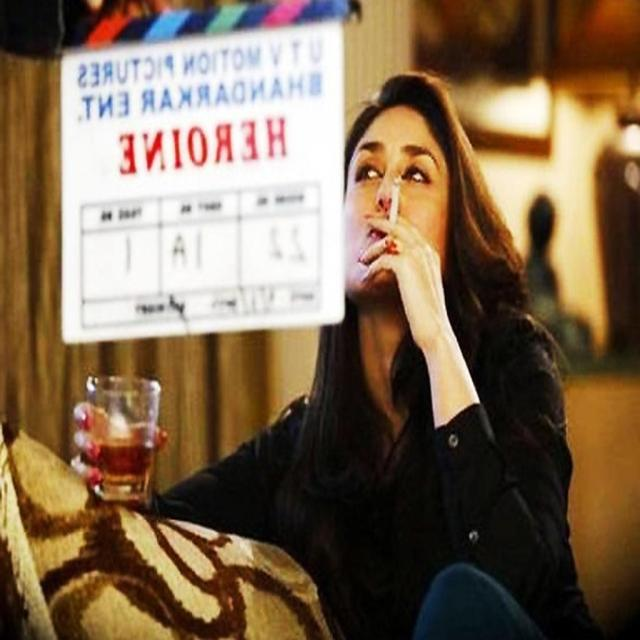smoking: (344, 103, 448, 320)
